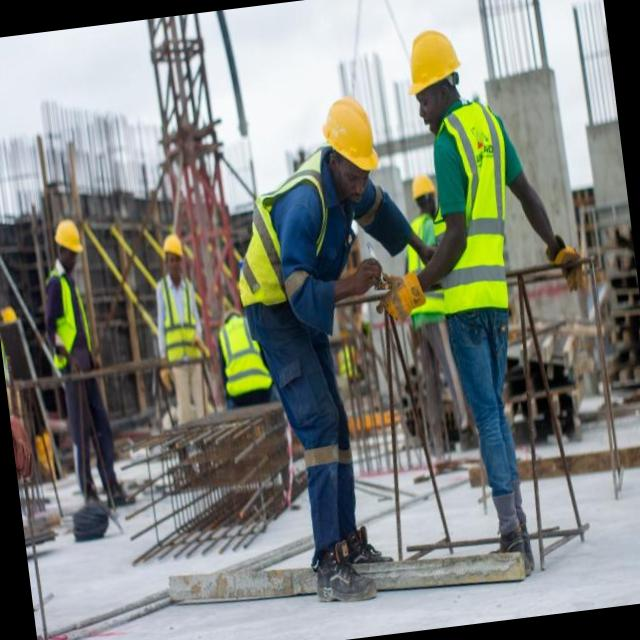Gloves: (536, 242, 588, 298), (382, 266, 428, 328), (154, 362, 175, 388)
Helmet: (322, 83, 382, 185), (406, 31, 455, 101), (51, 216, 93, 262)
Vest: (434, 105, 520, 317), (42, 270, 94, 391), (218, 311, 277, 404), (152, 274, 205, 372)
